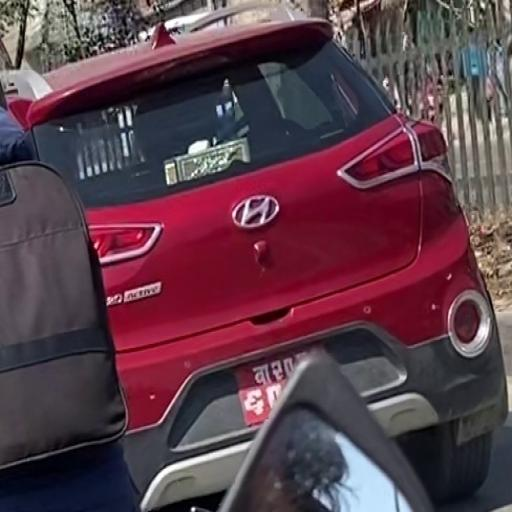license_plate: (232, 340, 326, 429)
